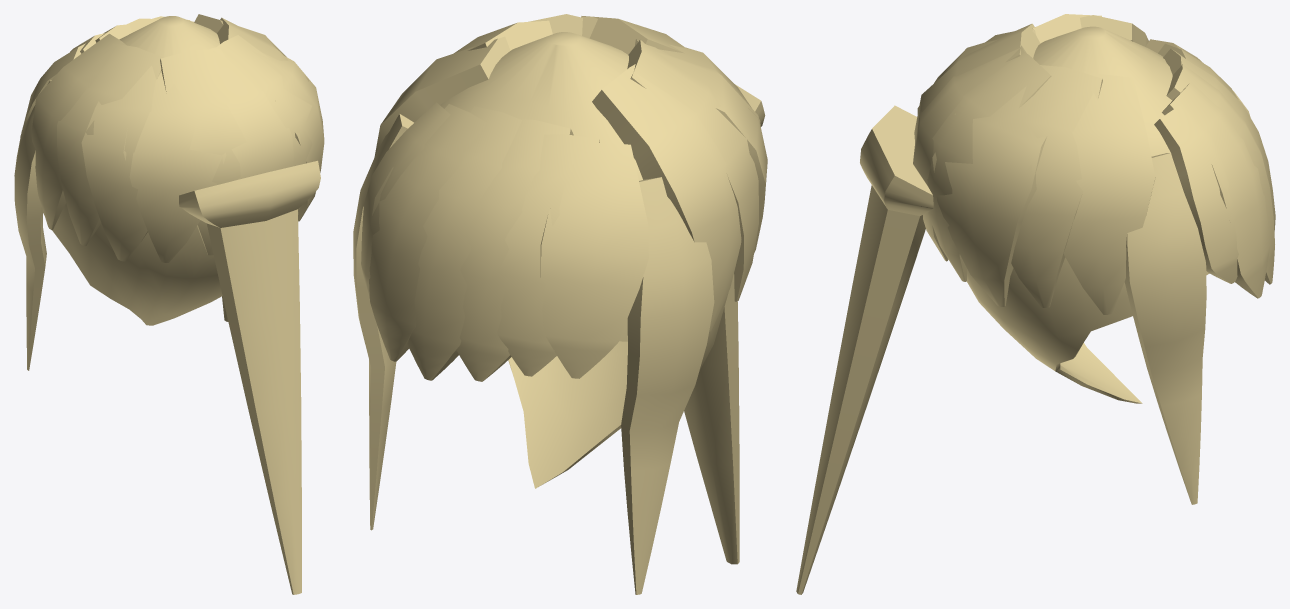
The model's file is hair_3.fbx.
3 renders of one model, left to right at view 1: azimuth 30°, elevation 25°; view 2: azimuth 150°, elevation 25°; view 3: azimuth 270°, elevation 25°, orthographic. The views are drawn at different scales.
Parts seen in each view (by area): view 1: Hair; view 2: Hair; view 3: Hair.
Boxes of the visible parts, x1,y1,x2,y2 form: Hair: (14, 14, 324, 594); Hair: (353, 14, 767, 594); Hair: (796, 14, 1275, 594).
Bounding box in the file's own units: 0.2417 × 0.435 × 0.3373.
